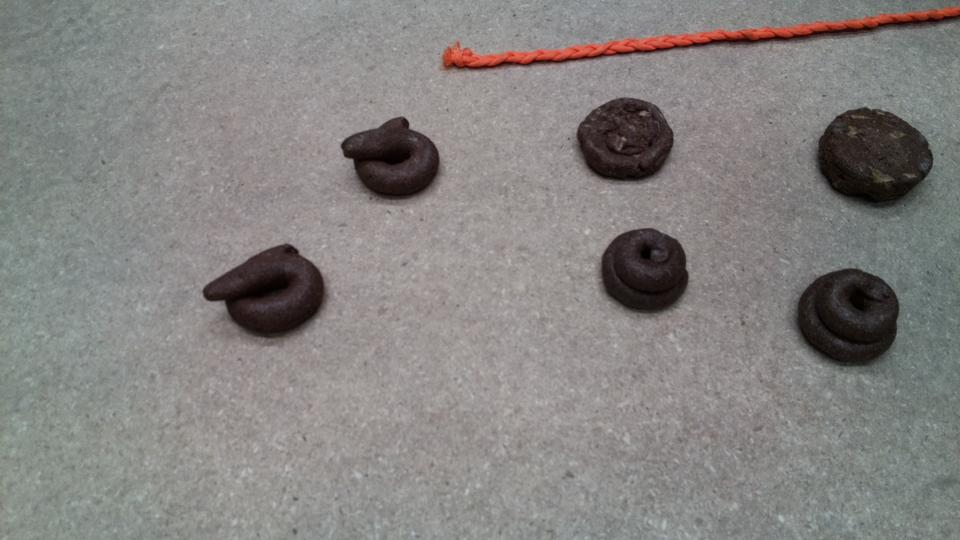poop: (813, 104, 936, 213), (199, 239, 332, 339), (792, 264, 905, 370), (338, 113, 443, 204), (574, 93, 678, 184), (599, 223, 691, 317)
rope: (438, 4, 960, 72)
